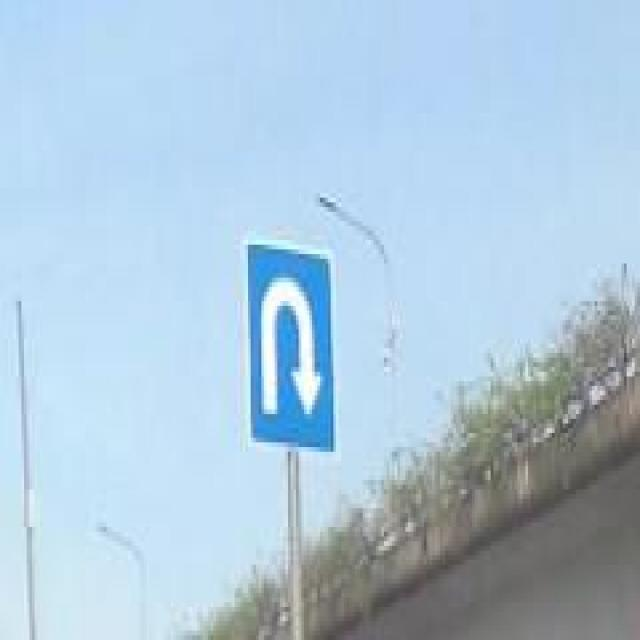traffic sign: (243, 240, 339, 457)
